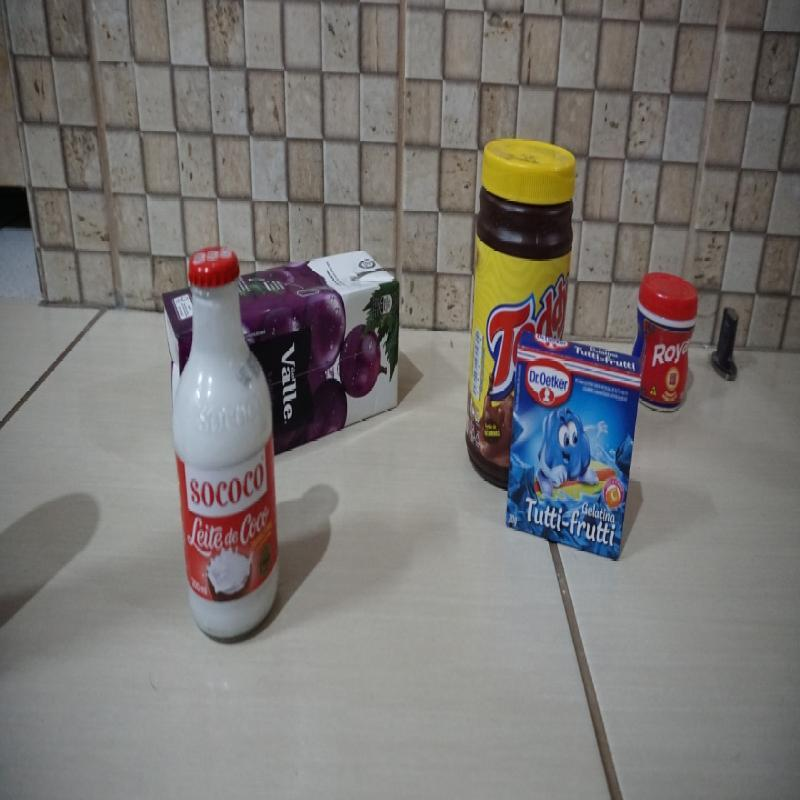Chocolate Powder: (465, 133, 575, 497)
Coconut Milk: (168, 243, 284, 648)
Gelatine: (505, 325, 644, 567)
Yeast: (626, 271, 698, 416)
